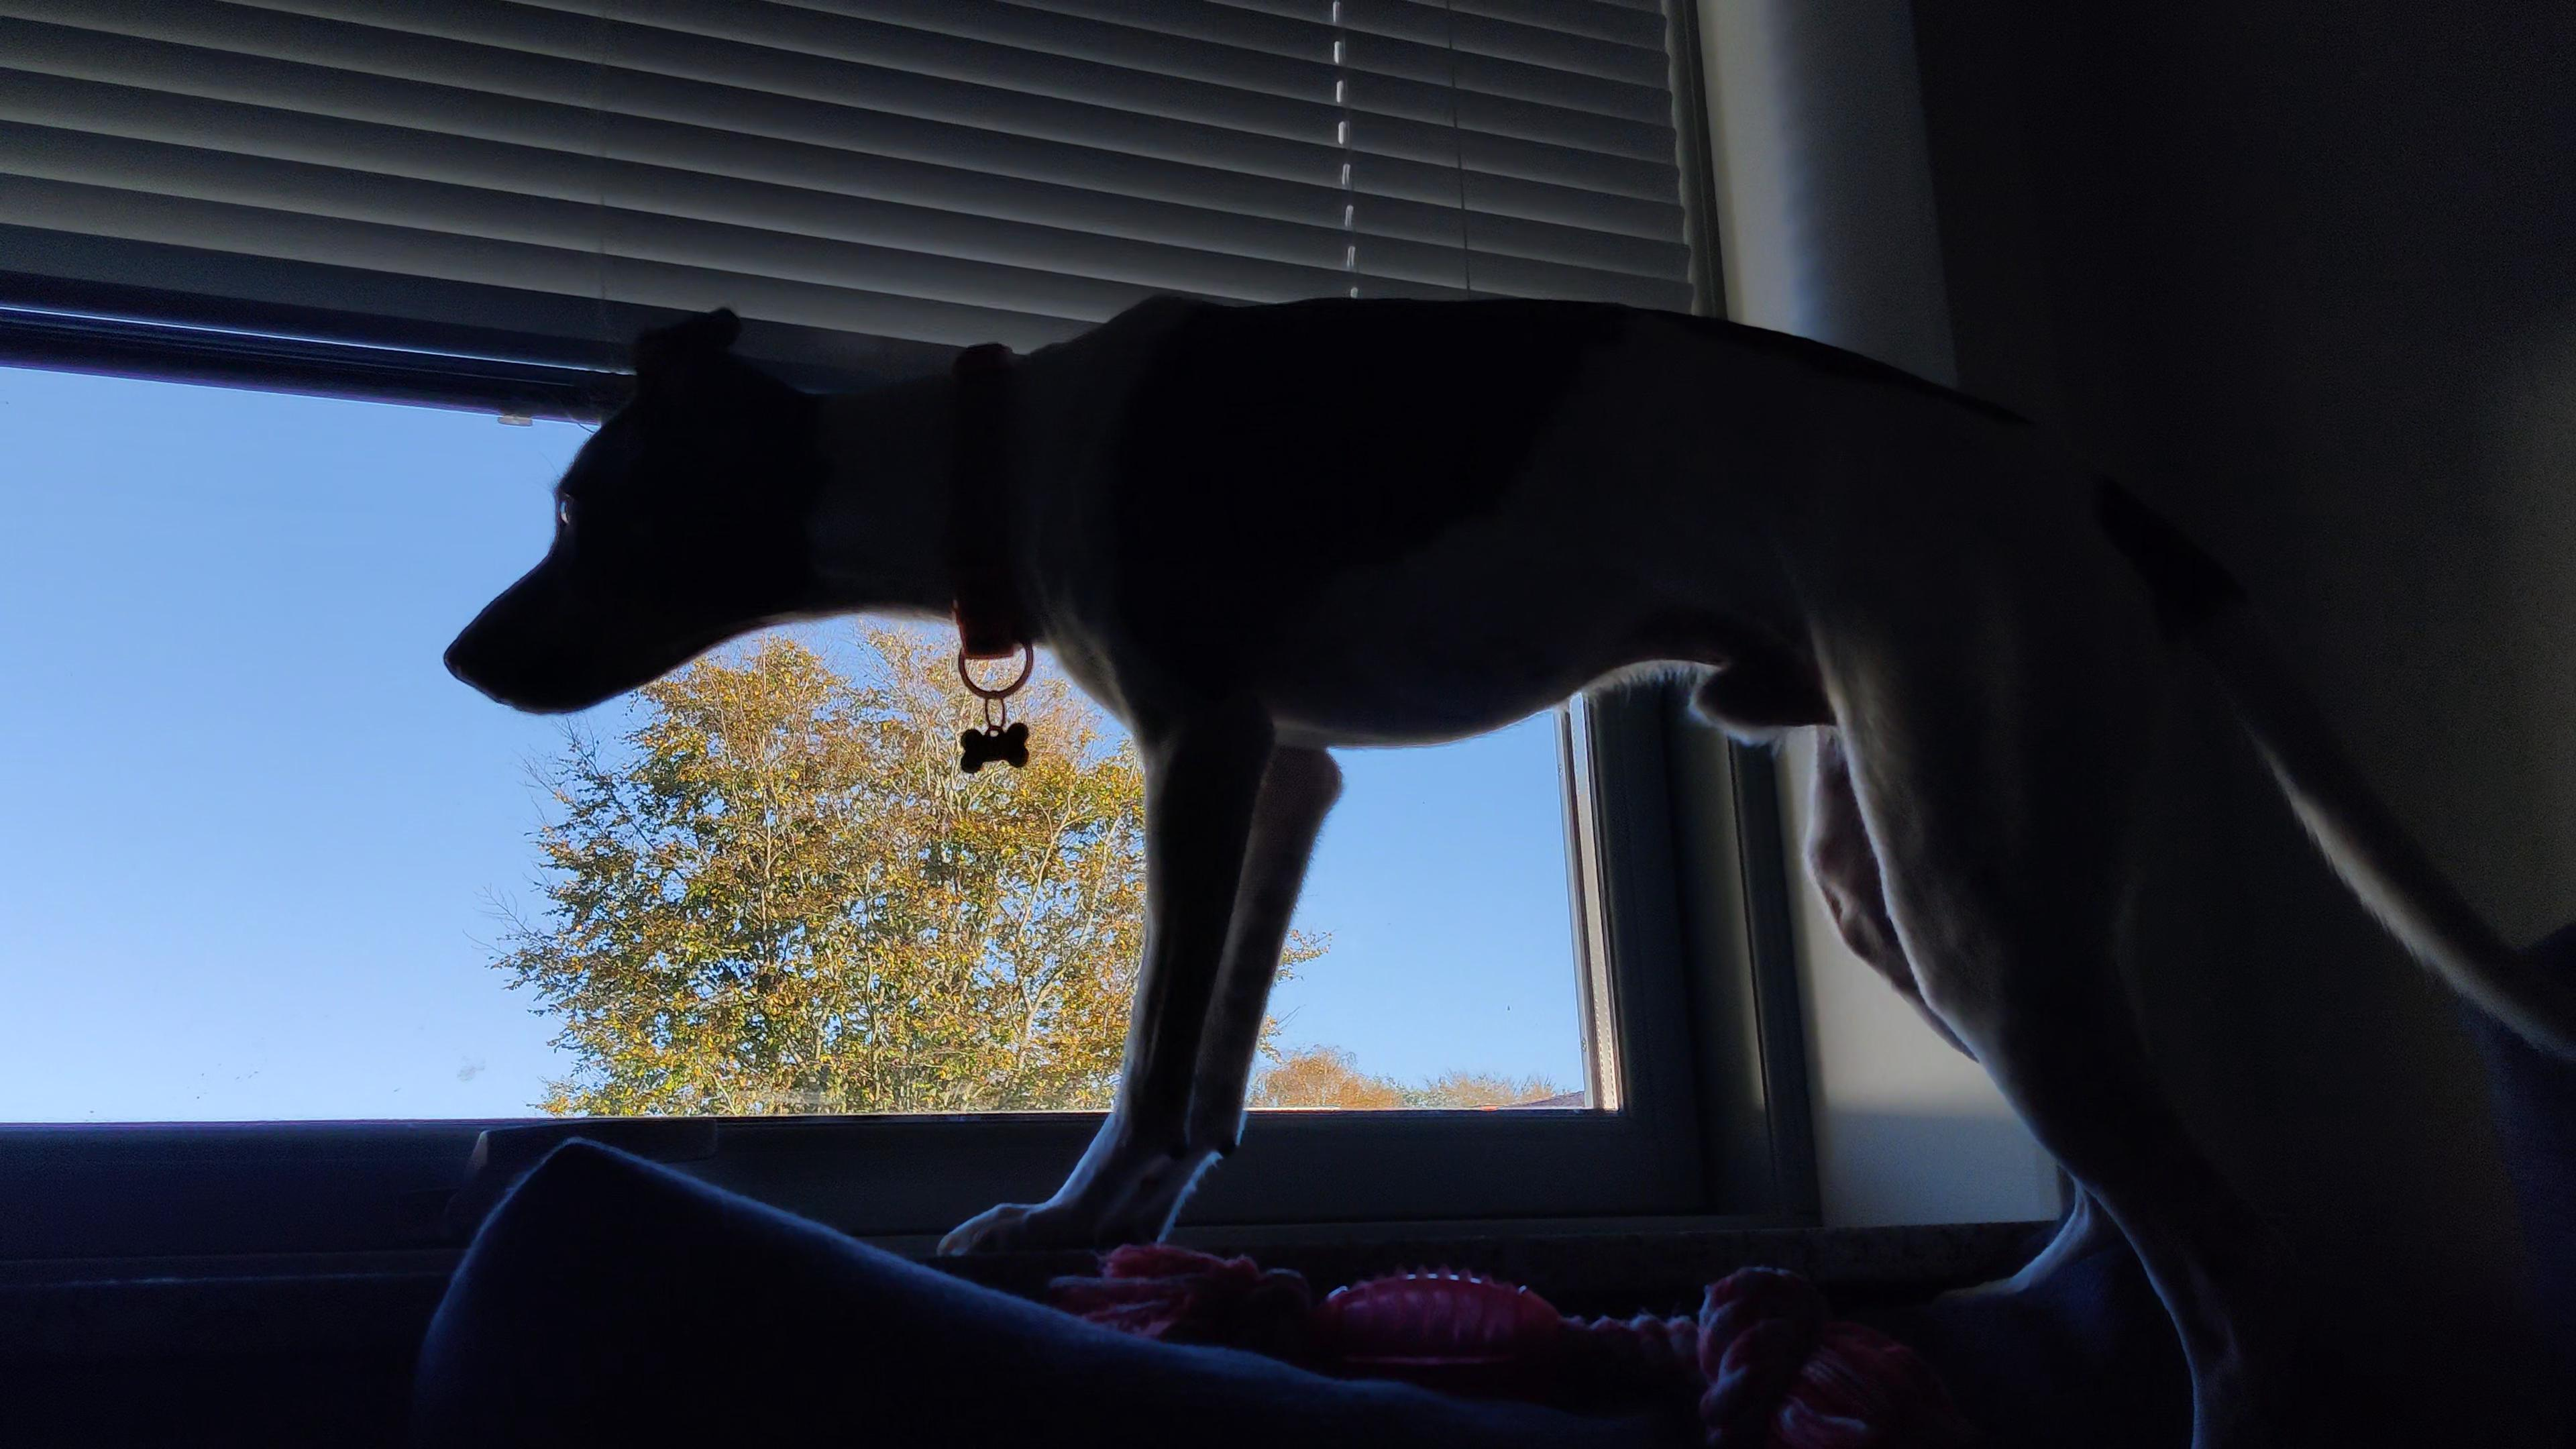Dog: (432, 278, 2576, 1449)
